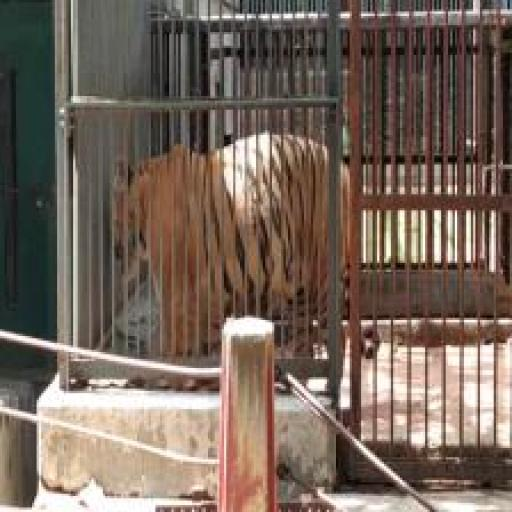Tiger: (94, 128, 385, 376)
